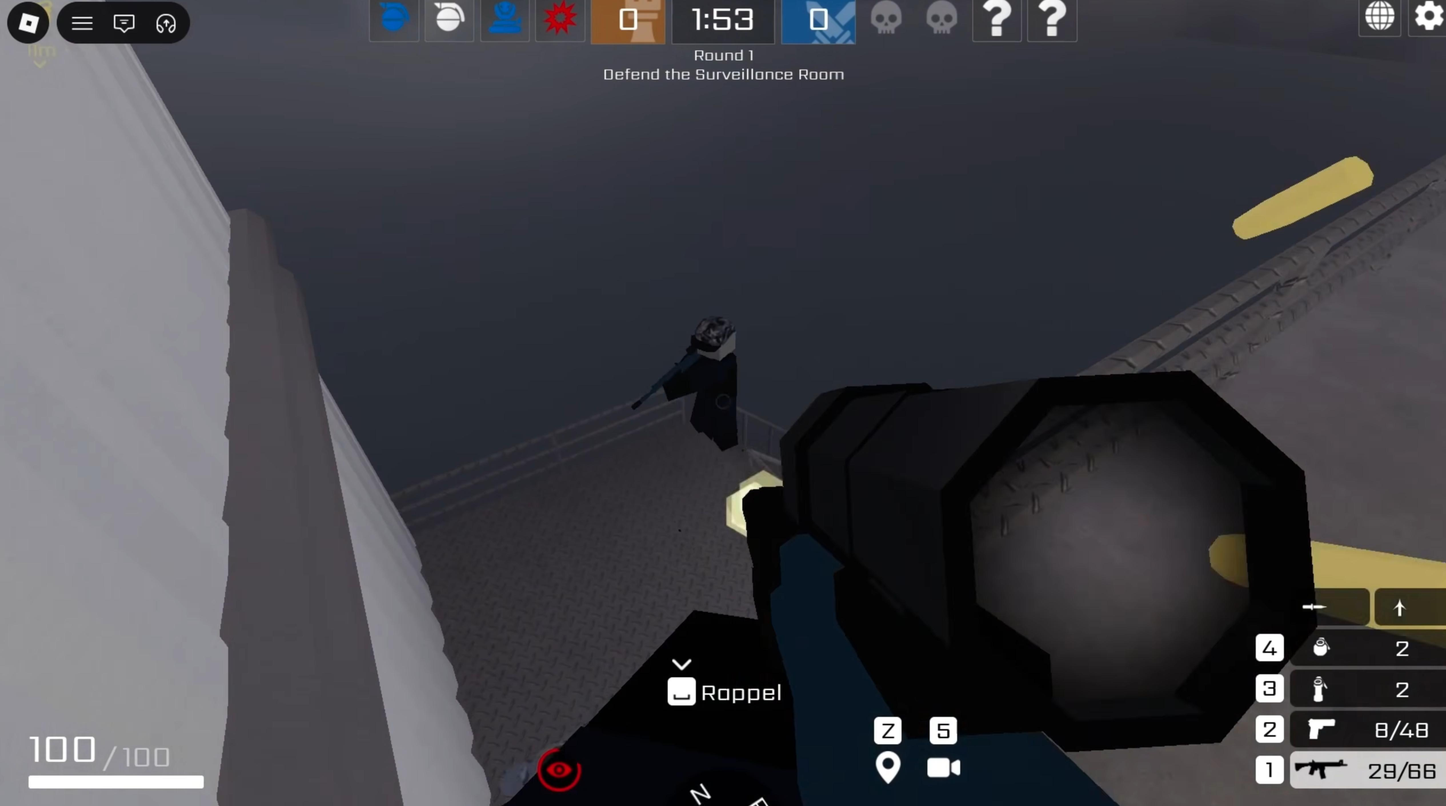enemy: (657, 308, 762, 462)
